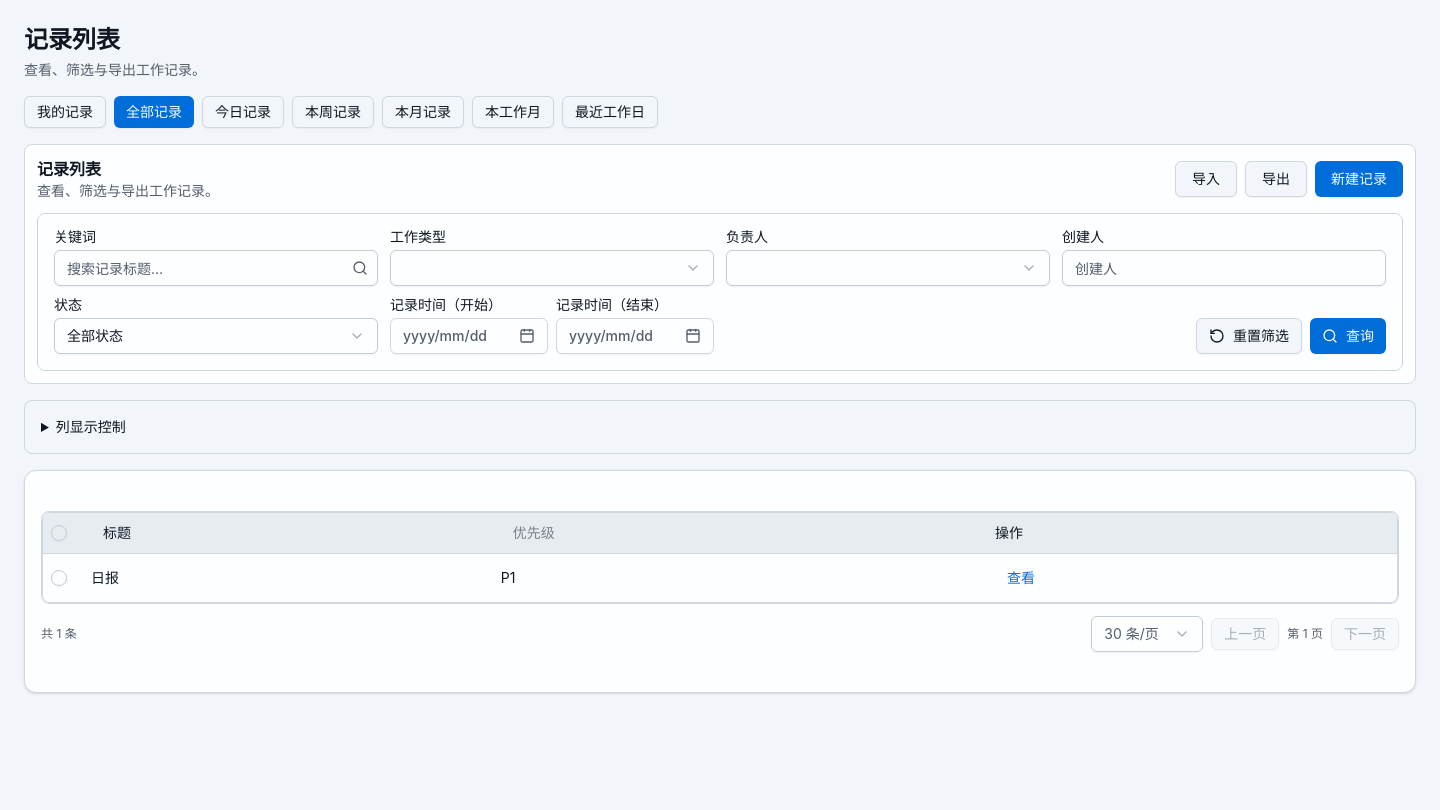
Test: WorkRecordListPage › renders enterprise list page
The width and height of the screenshot is (1440, 810).
Expected: the 1st heading "记录列表" is shown, [24,25,120,54]
Expected: the cell "日报" is shown, [83,553,493,602]
Click the dropdown named "负责人": [1029, 268] box [726,250,1050,286]
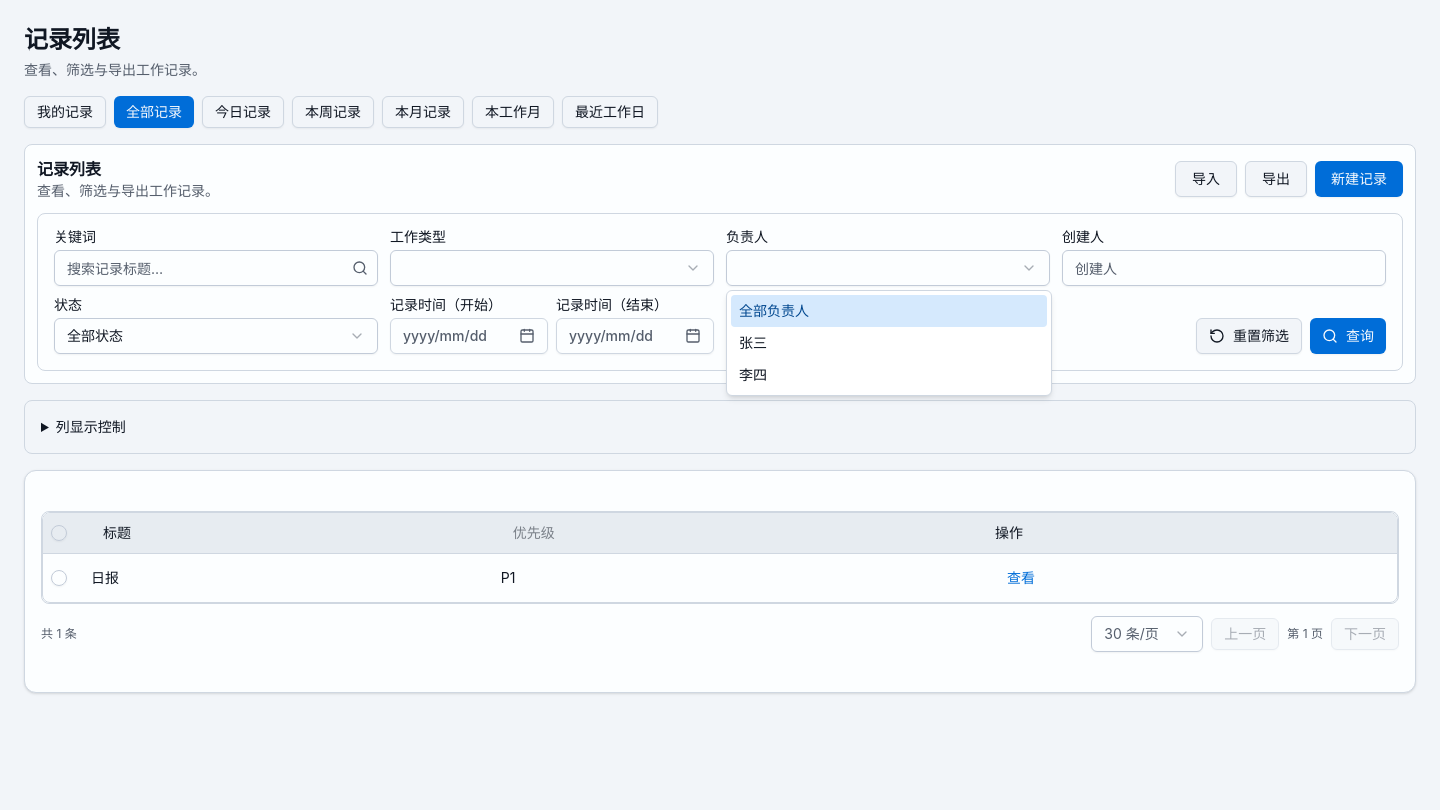
Result: the option "张三" is shown at [739,334,767,351]
